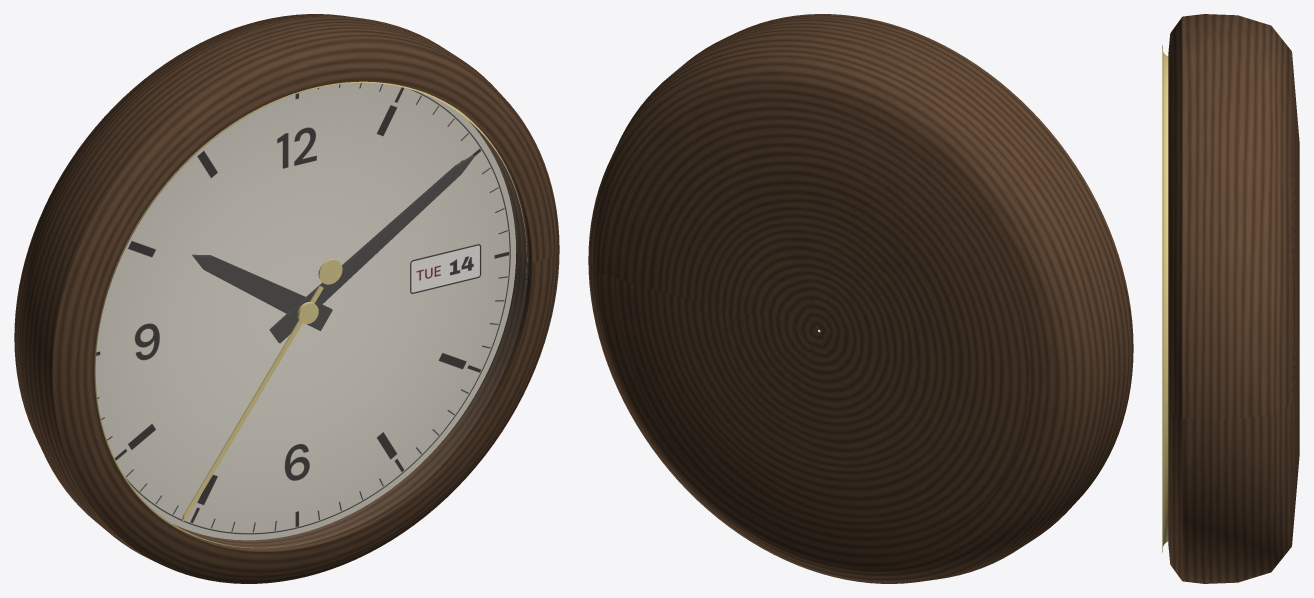
The model's file is walnut_wall_clock_day-date.glb.
3 renders of one model, left to right at view 1: azimuth 30°, elevation 25°; view 2: azimuth 150°, elevation 25°; view 3: azimuth 270°, elevation 25°, orthographic. The views are drawn at different scales.
Parts seen in each view (by area): view 1: SM_Dial_3, SM_Case_1, SM_Hand_Minute_6, SM_Hand_Hour_5, SM_Bezel_2, SM_Hand_Second_7; view 2: SM_Case_1; view 3: SM_Case_1, SM_Bezel_2.
Boxes of the visible parts, left/top/right/bottom form: SM_Dial_3: left=95, top=83, right=516, bottom=540; SM_Case_1: left=14, top=14, right=559, bottom=583; SM_Hand_Minute_6: left=269, top=155, right=474, bottom=343; SM_Hand_Hour_5: left=192, top=254, right=332, bottom=330; SM_Bezel_2: left=94, top=81, right=527, bottom=548; SM_Hand_Second_7: left=181, top=285, right=323, bottom=521; SM_Case_1: left=588, top=14, right=1133, bottom=583; SM_Case_1: left=1168, top=14, right=1299, bottom=583; SM_Bezel_2: left=1162, top=45, right=1168, bottom=552.
Bounding box in the file's own units: 0.221 × 0.221 × 0.0533.
5 materials, 2 textured.
